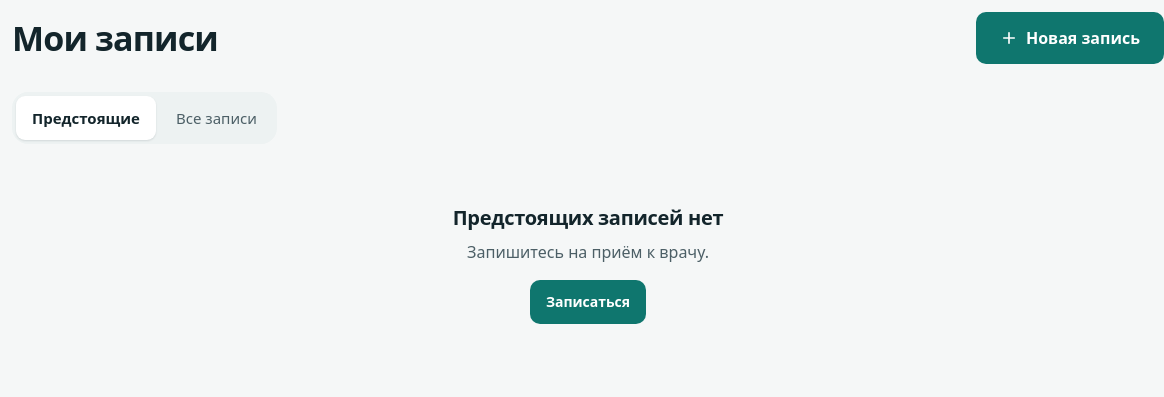
Test: AppointmentList › should not show the previous tab as the new one, nor a false empty state, while the other tab is loading
Expected: the heading "Предстоящих записей нет" is shown, [453,204,723,231]
What coordinates should you click on to do the following:
click the tab "Все записи"
I would click on:
 (216, 118)
Its box is [160,96,273,140].
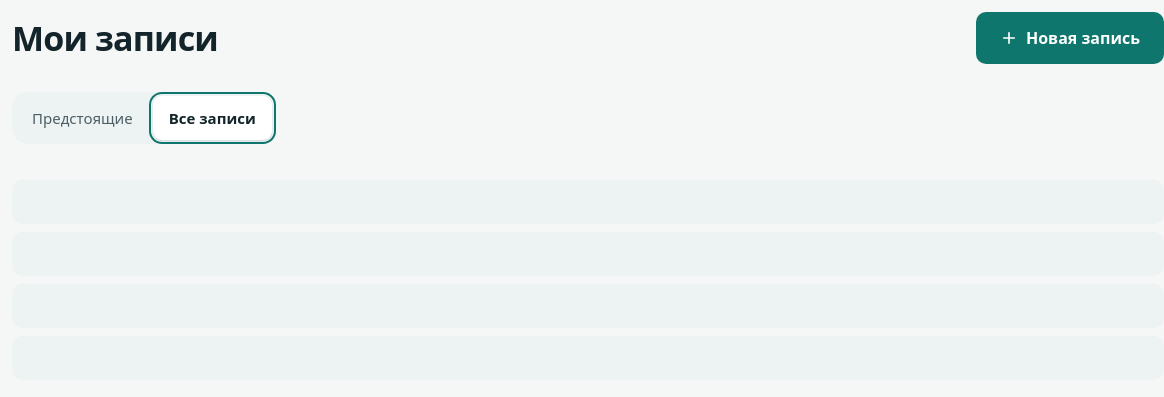
Now the element with test id "empty-state" is gone
Now the heading "записей нет" is gone
